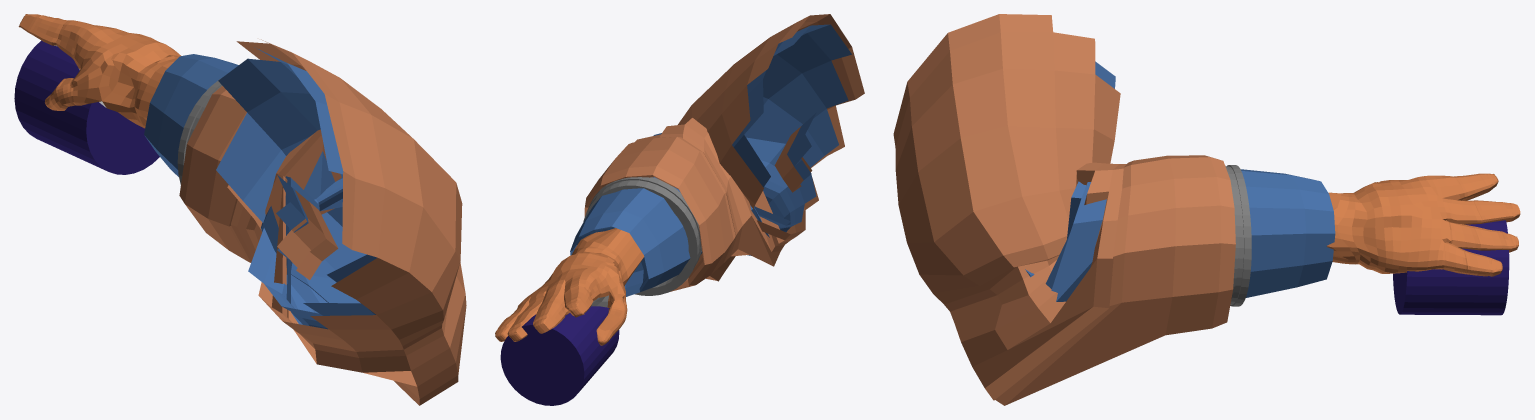
Rendered from armCosmonaute.fbx.
3 renders of one model, left to right at view 1: azimuth 30°, elevation 25°; view 2: azimuth 150°, elevation 25°; view 3: azimuth 270°, elevation 25°, orthographic. The views are drawn at different scales.
Parts seen in each view (by area): view 1: ArmCosmonaute; view 2: ArmCosmonaute; view 3: ArmCosmonaute.
Boxes of the visible parts, left/top/right/bottom form: ArmCosmonaute: left=14, top=14, right=466, bottom=405; ArmCosmonaute: left=495, top=14, right=864, bottom=405; ArmCosmonaute: left=893, top=14, right=1520, bottom=405.
Bounding box in the file's own units: 0.2084 × 0.373 × 0.6423.
